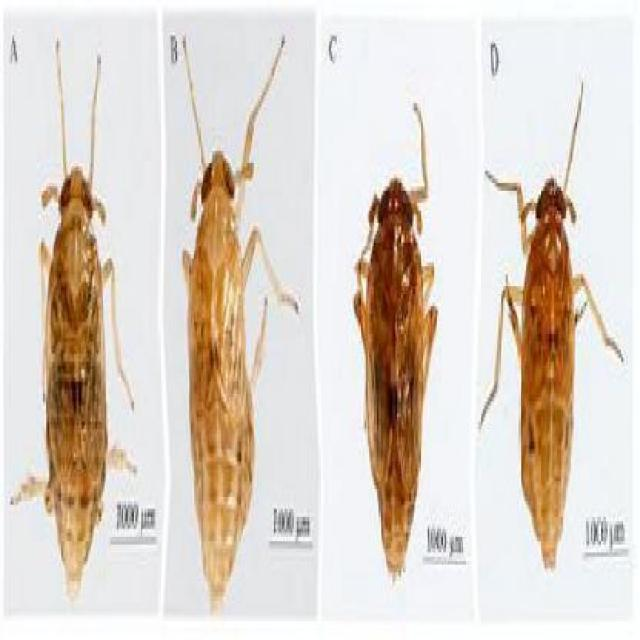brown-planthopper: (39, 123, 112, 594), (185, 127, 257, 591), (362, 142, 428, 588), (512, 146, 578, 576)
